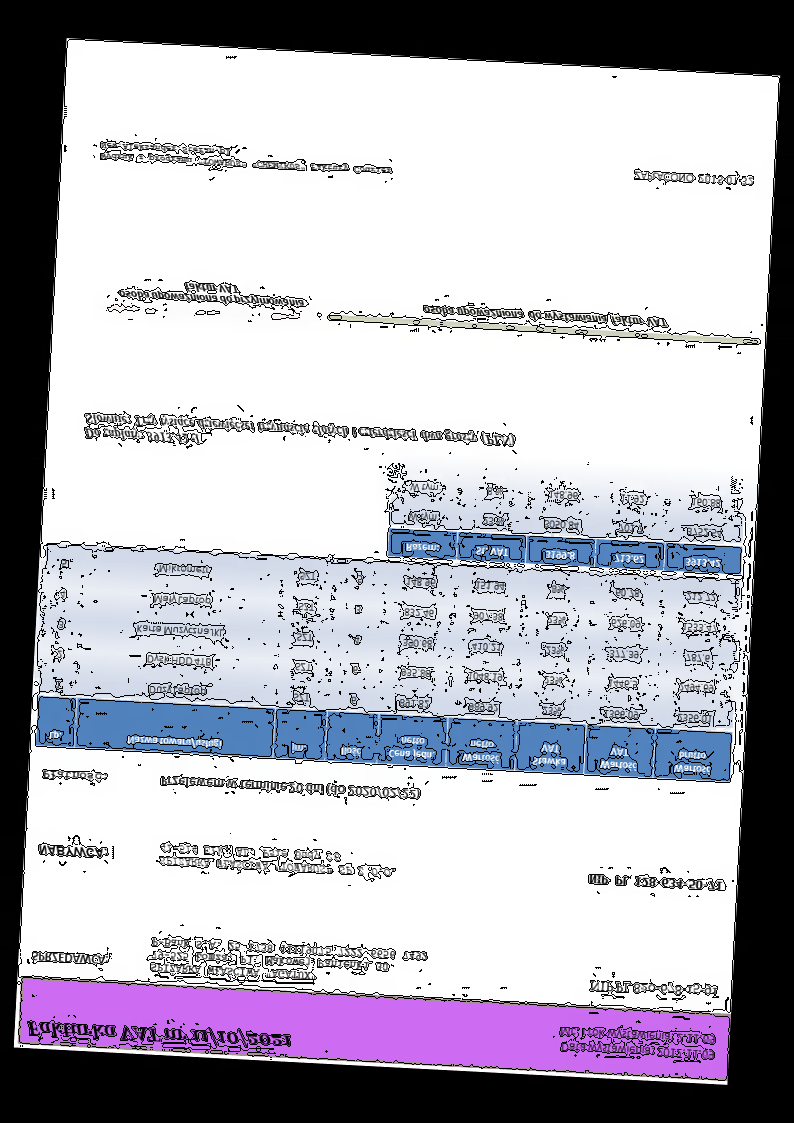Table: (33, 543, 741, 785), (386, 465, 746, 576)
TextBox: (81, 408, 517, 465), (146, 935, 429, 990), (96, 138, 395, 178), (156, 840, 399, 881), (23, 1017, 293, 1053), (158, 772, 422, 801), (421, 301, 671, 331), (116, 277, 306, 312), (555, 1025, 718, 1064), (586, 871, 724, 894), (585, 977, 719, 1000), (630, 166, 755, 190), (29, 949, 110, 969), (35, 842, 109, 862), (40, 767, 110, 787)
